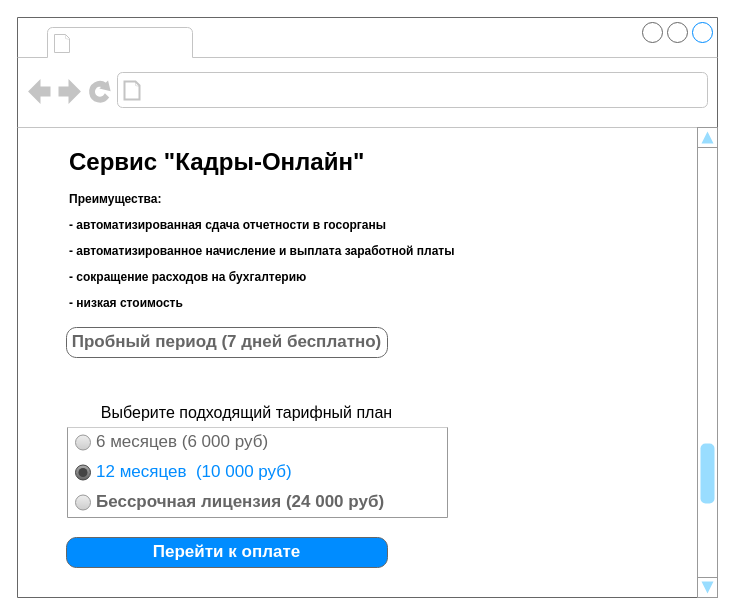
Some shapes in this 735 by 615 pixel diagram are drawn without their labels. The box of each missing label's shape, as (x1, y1, x2, y2) in pixels:
2_Rate: (76, 28, 188, 56)
https://www.sbi.kadryonline.ru: (146, 76, 398, 104)
